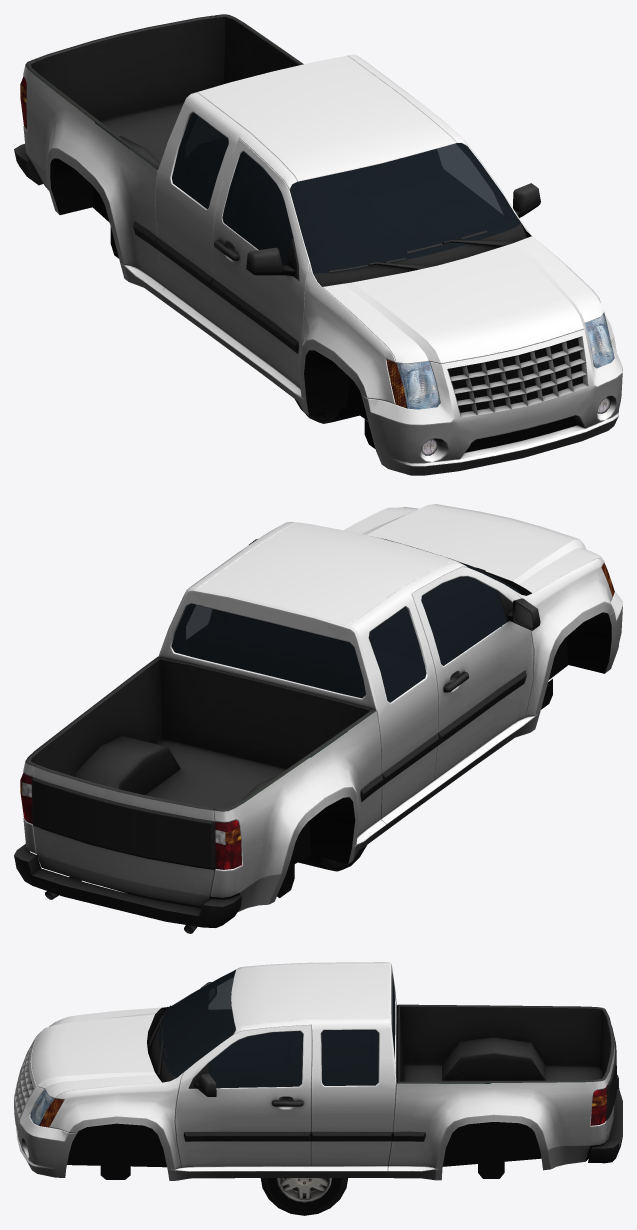
The model's file is pickup.glb.
3 views of the same model, one above another, from view 1: azimuth 30°, elevation 25°; view 2: azimuth 150°, elevation 25°; view 3: azimuth 270°, elevation 25° (orthographic). The views are drawn at different scales.
Visible parts, largest first — view 1: paint, glass, head, tail; view 2: paint, glass, tail; view 3: paint, glass, wheel0, tail, head.
Boxes of the visible parts, box(x1,y1,x2,y2) form: paint: box(14, 14, 622, 475); glass: box(172, 113, 520, 273); head: box(386, 312, 614, 455); tail: box(20, 76, 407, 408); paint: box(14, 504, 622, 933); glass: box(171, 537, 519, 702); tail: box(20, 563, 614, 869); paint: box(14, 962, 622, 1180); glass: box(158, 970, 395, 1088); wheel0: box(260, 1178, 348, 1215); tail: box(39, 1086, 607, 1127); head: box(30, 1088, 606, 1125).
Size of the model in its own units: 2.07 by 2.07 by 5.18.
Materials: 5 (4 with a texture image).
